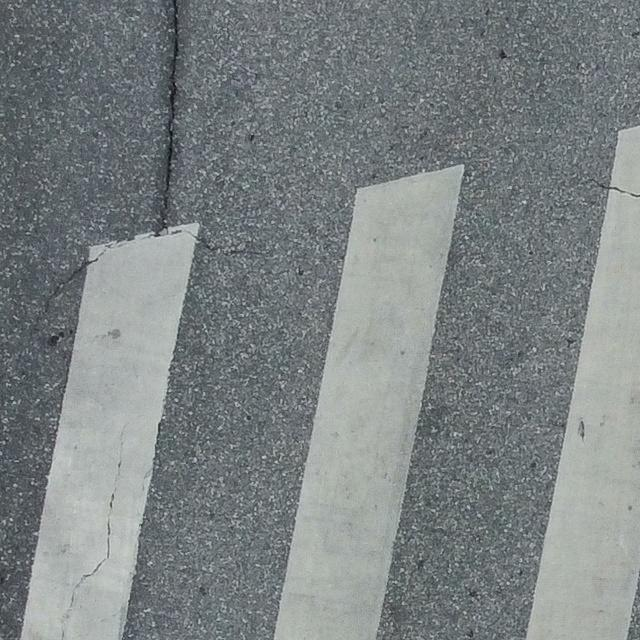LongitudinalCrack: (156, 1, 182, 243)
